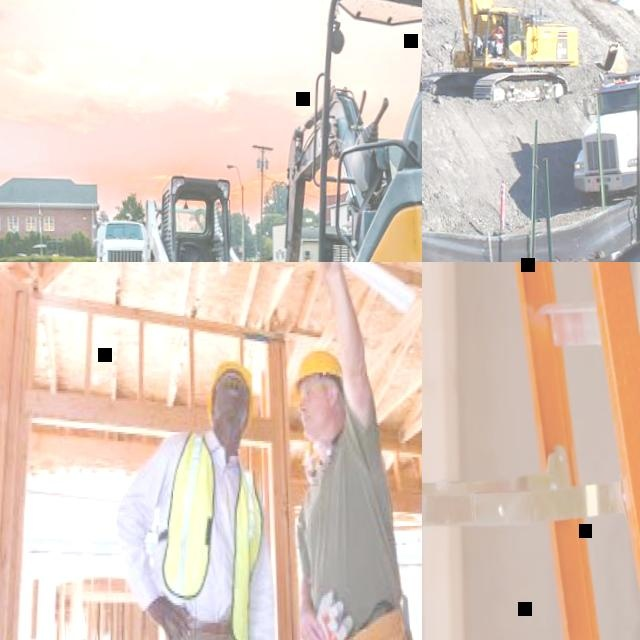Hardhat: (206, 359, 255, 425), (289, 350, 342, 381)
NO-Mask: (302, 403, 333, 441), (219, 389, 245, 416)
NO-Safety Vest: (304, 434, 397, 636)
Person: (281, 262, 421, 640), (105, 354, 281, 640), (487, 21, 505, 57)
Safety Vest: (160, 432, 265, 640), (492, 26, 504, 42)
machinery: (249, 0, 422, 262), (422, 0, 580, 114), (141, 170, 289, 262), (568, 66, 640, 193), (92, 217, 148, 262)
